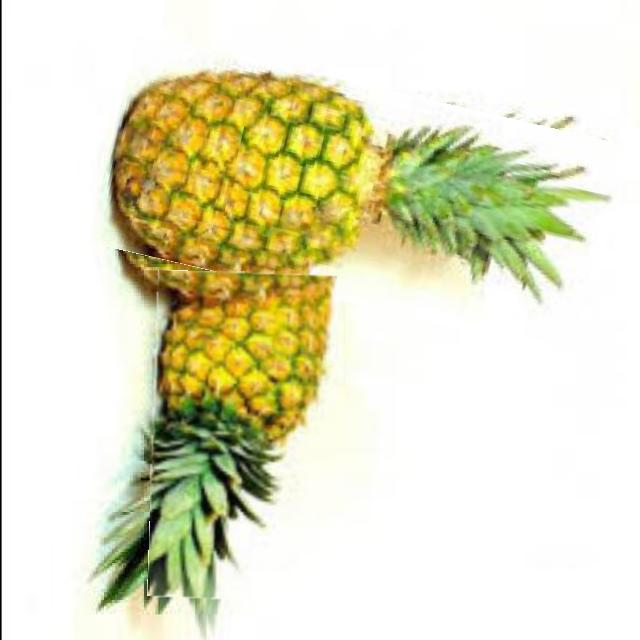Pineapple: (97, 59, 620, 328), (150, 271, 335, 601)
